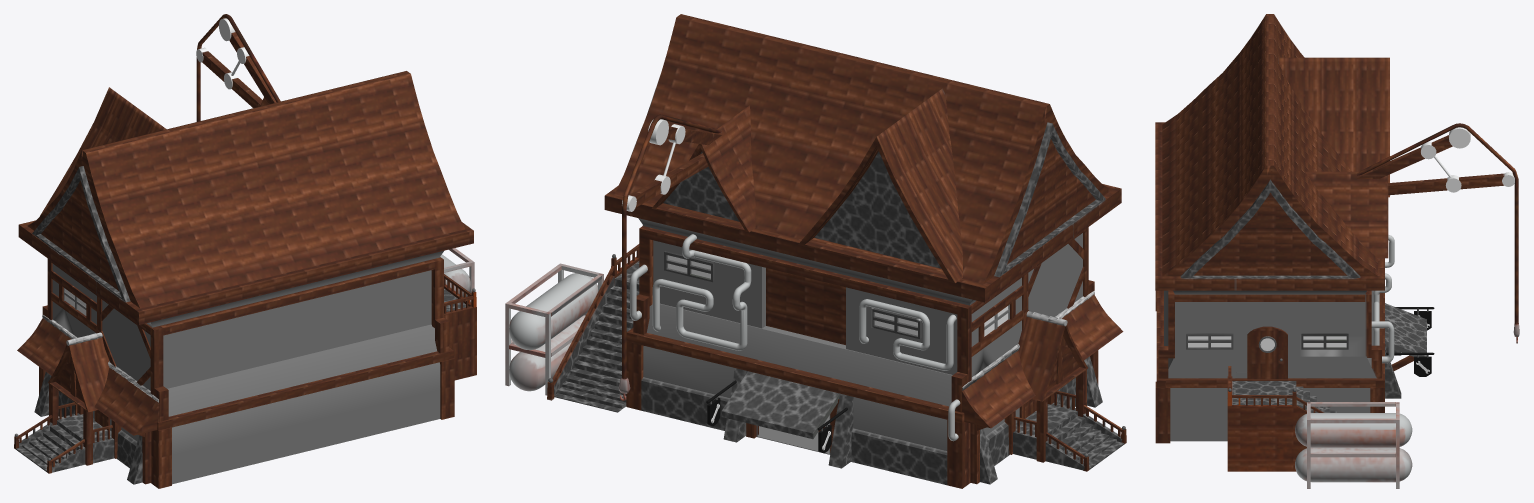
Rendered from Edificio4.obj.
3 views of the same model, side by side, from view 1: azimuth 30°, elevation 25°; view 2: azimuth 150°, elevation 25°; view 3: azimuth 270°, elevation 25° (orthographic). The views are drawn at different scales.
Visible parts, largest first — view 1: polySurface113_lambert2; view 2: polySurface113_lambert2; view 3: polySurface113_lambert2.
Part boxes in pixels (<box>): polySurface113_lambert2: <box>14,14,476,488</box>; polySurface113_lambert2: <box>505,14,1126,488</box>; polySurface113_lambert2: <box>1155,14,1519,488</box>.
Bounding box in the file's own units: 54.65 × 34.18 × 39.03.
